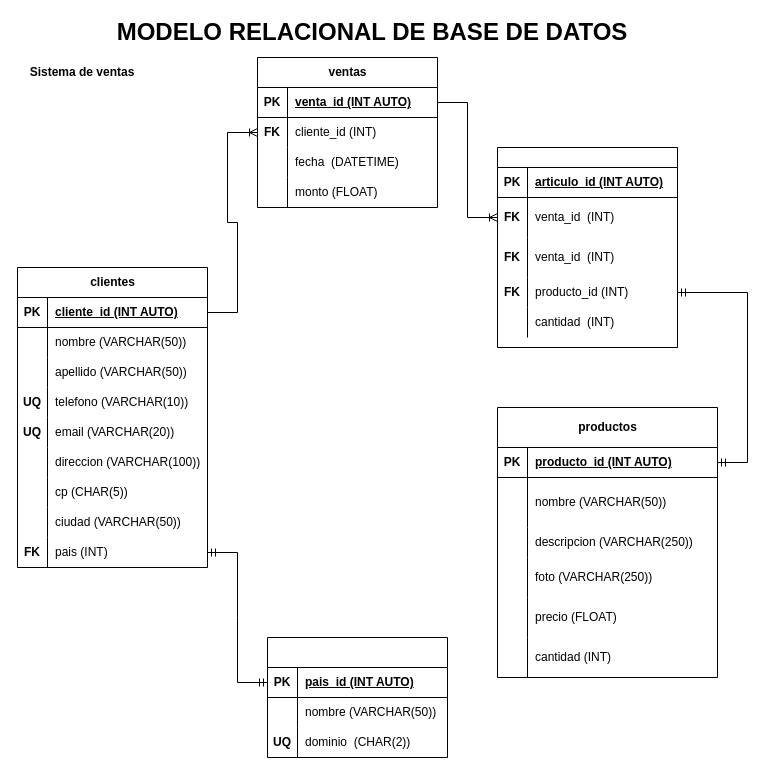
Some shapes in this 774 by 775 pixel diagram are drawn without their labels. The box of each missing label's shape, as (x1, y1, x2, y2) in pixels:
articulos: (496, 146, 678, 348)
paises: (266, 636, 448, 758)
